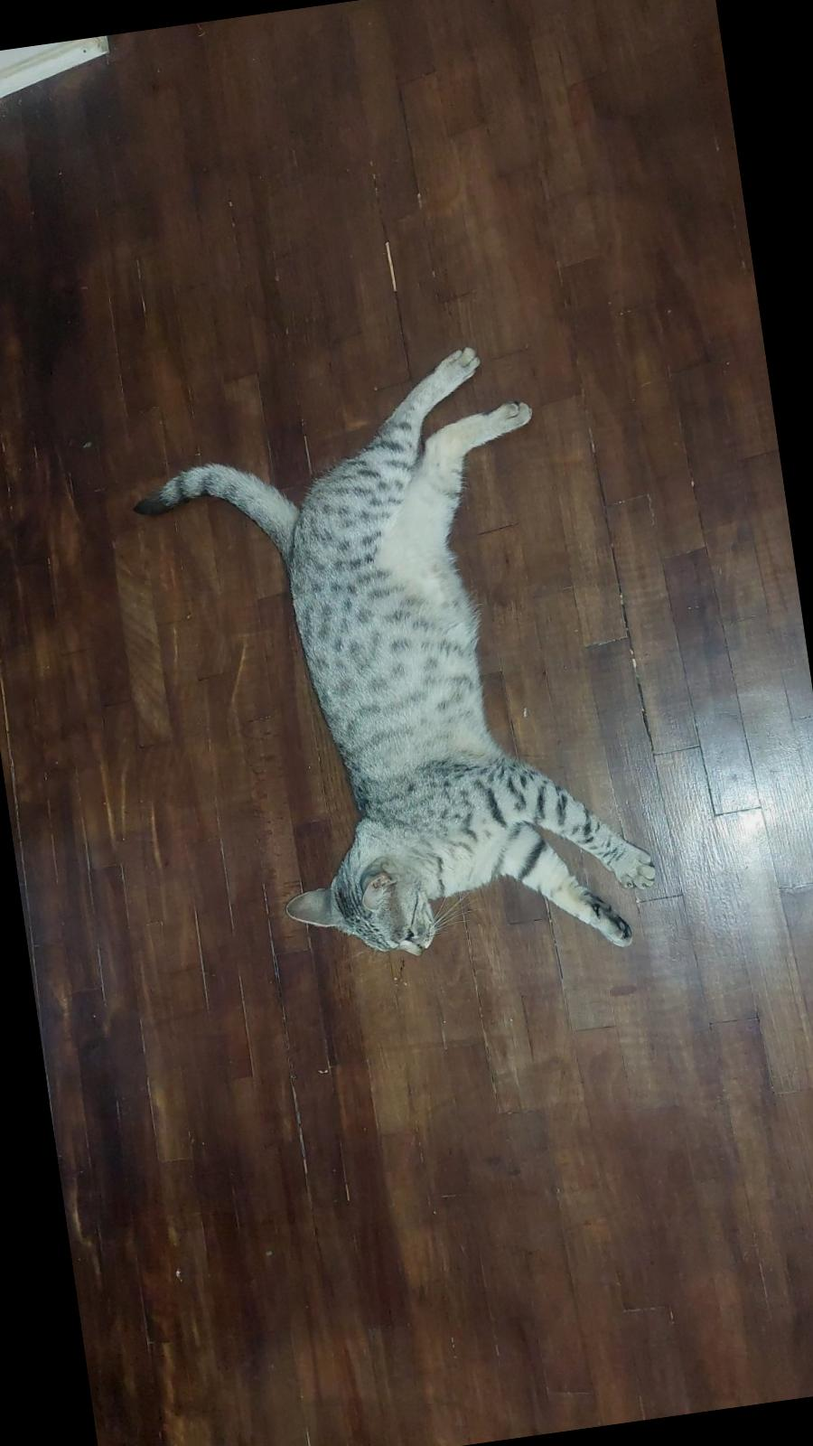macka: (114, 327, 668, 1002)
